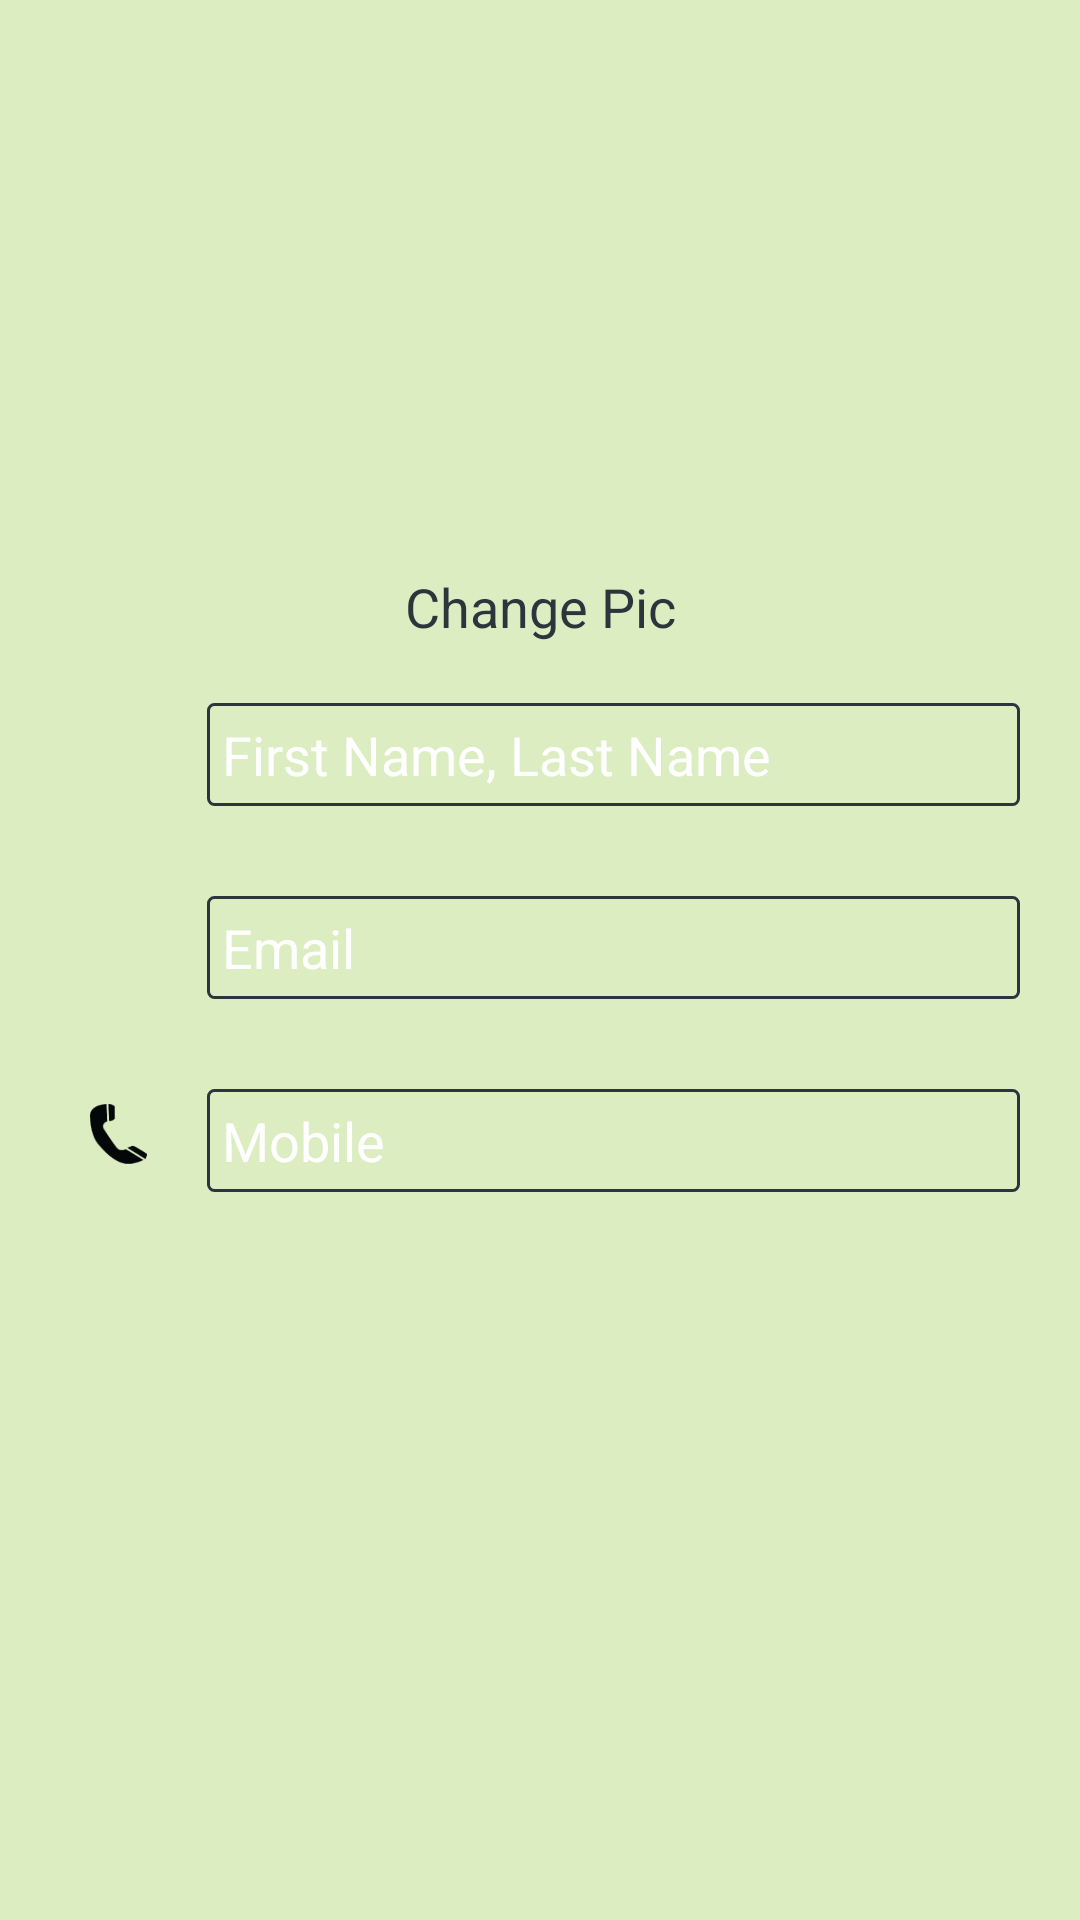

Point at icon controls on the screen. Image size 1080px×1920px, points as [x,y].
telephone: [118,1134]
